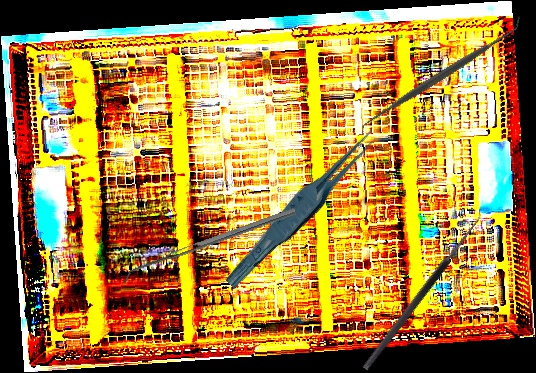Hook Surgical: (354, 206, 485, 372)
Spatula Surgical: (352, 14, 530, 137), (119, 207, 299, 285)
Tissue Forceps: (214, 127, 391, 291)
